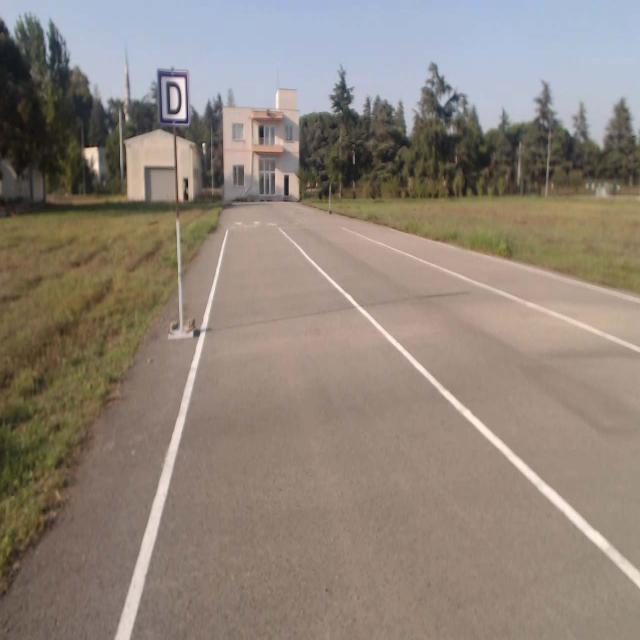durak: (157, 71, 189, 125)
